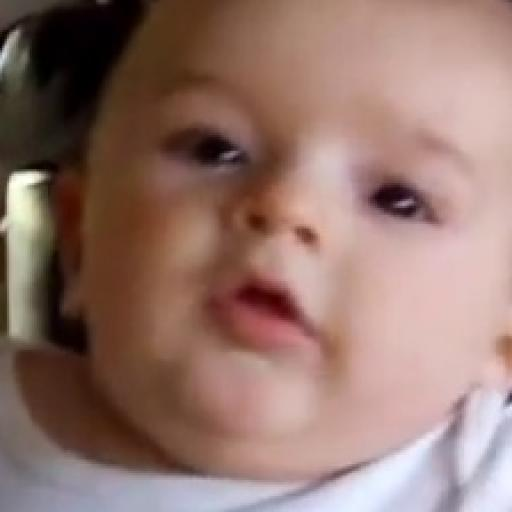Autism: (107, 11, 512, 448)
